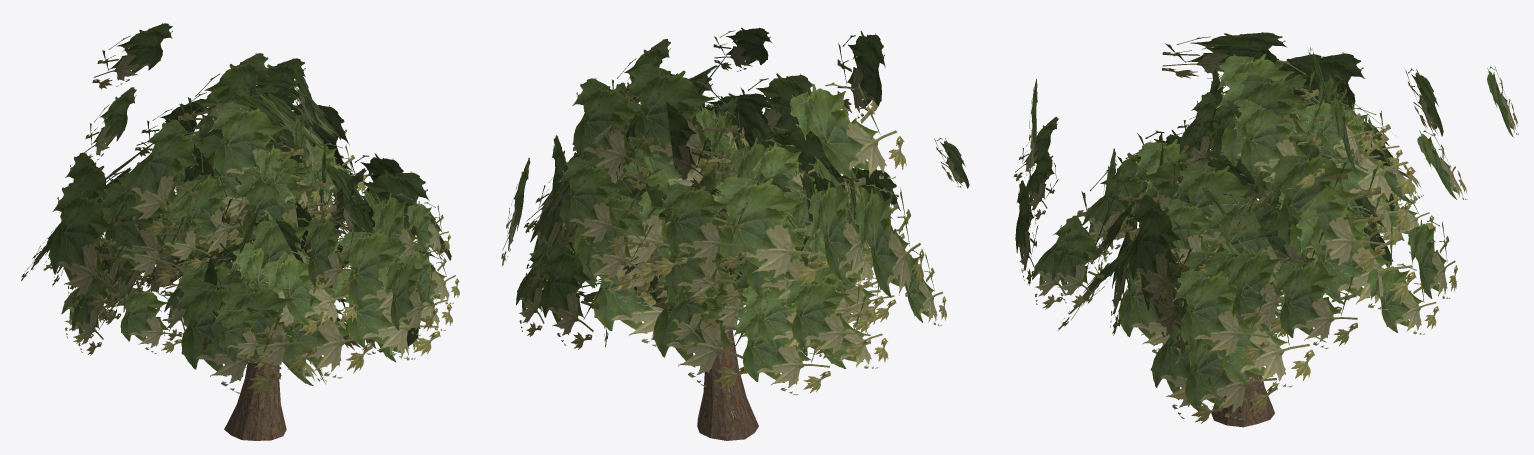
The model's file is prop_tree3.glb.
3 views of the same model, side by side, from view 1: azimuth 30°, elevation 25°; view 2: azimuth 150°, elevation 25°; view 3: azimuth 270°, elevation 25° (orthographic). The views are drawn at different scales.
Parts seen in each view (by area): view 1: prop; view 2: prop; view 3: prop.
Part boxes in pixels (x1,y1,x2,y2): prop: (21,23,459,440); prop: (501,27,969,440); prop: (1013,32,1518,427).
Size of the model in its own units: 5.8 by 5.02 by 6.14.
Materials: 4 (4 with a texture image).
